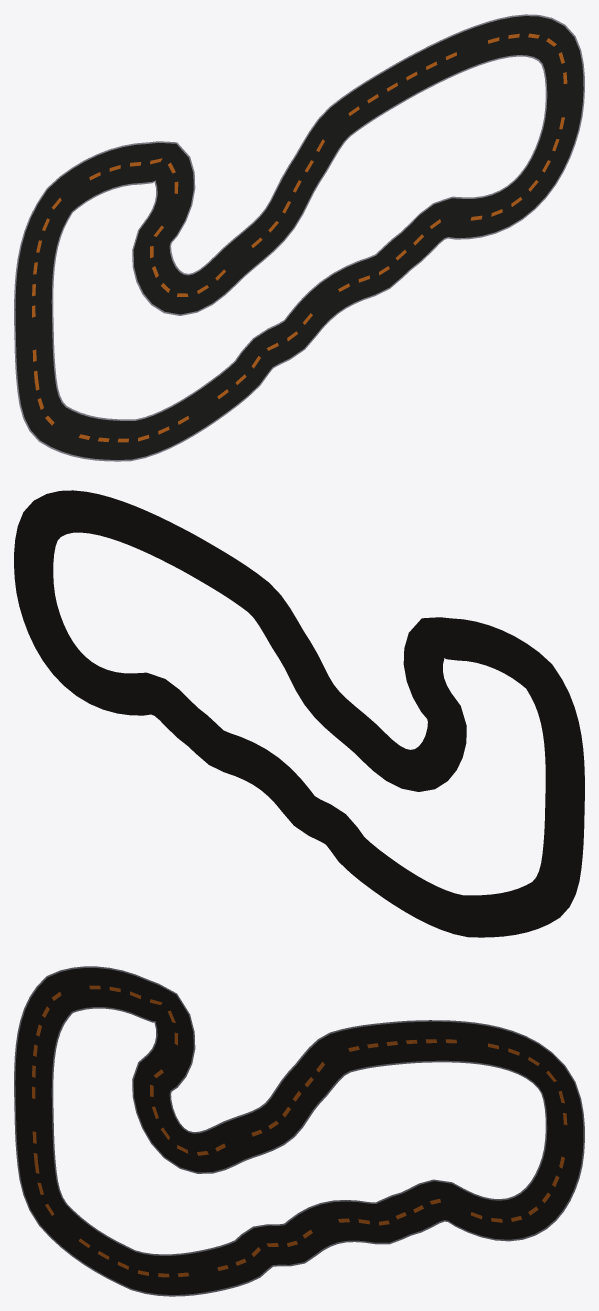
The model's file is track.obj.
3 views of the same model, one above another, from view 1: azimuth 30°, elevation 25°; view 2: azimuth 150°, elevation 25°; view 3: azimuth 330°, elevation 25° (orthographic).
Size of the model in its own units: 15.51 by 9.17 by 0.002.
